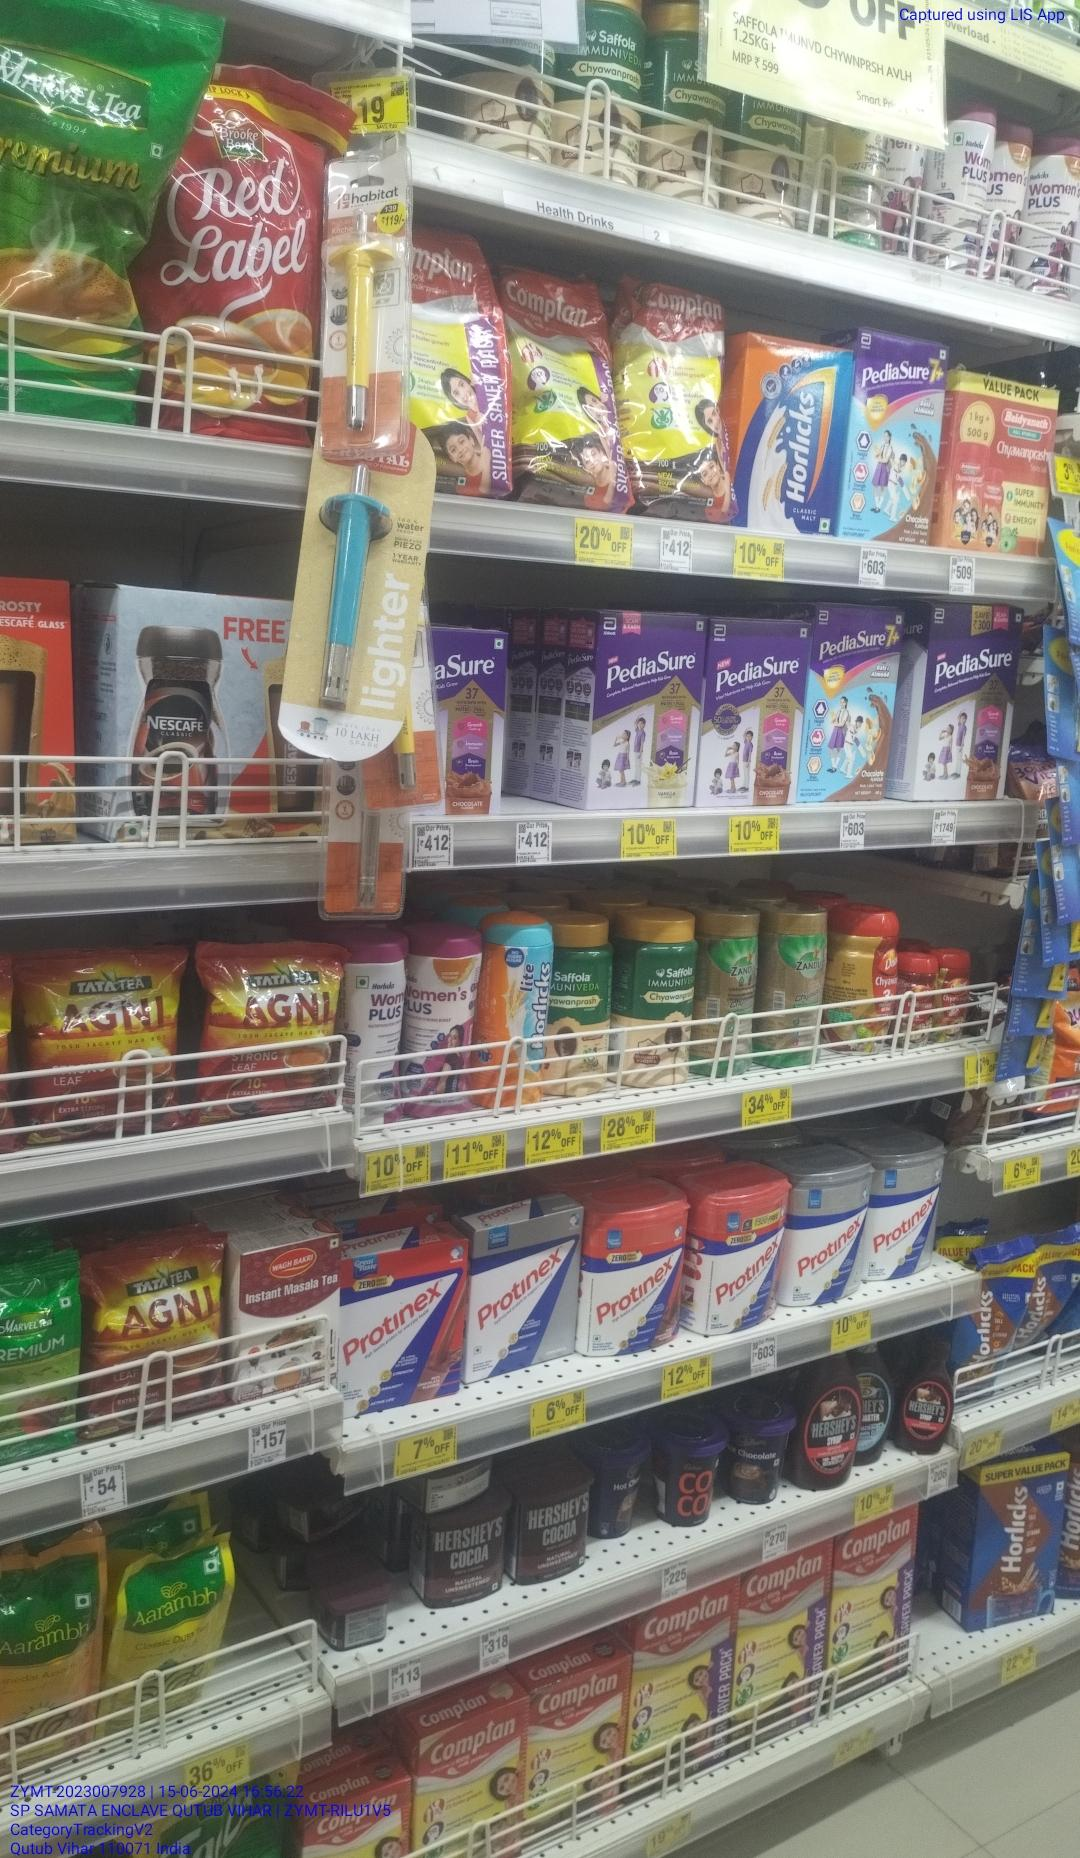COMPLAN_CHOCOLATE_1_KG_PACK: (634, 1607, 729, 1791), (741, 1558, 828, 1744), (834, 1515, 917, 1702)
COMPLAN_CHOCOLATE_500_GMS_PACK: (531, 1679, 624, 1827)
COMPLAN_KESAR_BADAM_500_GMS_PACK: (419, 1727, 530, 1858)
COMPLAN_RC_POUCH_700_GMS_12: (406, 220, 516, 494), (629, 282, 735, 521), (519, 267, 620, 508)
HORLICK_CHOCOLATE_1_KG_PACK: (977, 1463, 1067, 1629)
HORLICK_CHOCOLATE_750_G_POUCH: (964, 1250, 1022, 1402)
HORLICK_CLASSIC_MALT_500_G_PACK: (742, 330, 847, 535)
PEDIASURE_7_PLUS_CHOCOLATE_400_G_PACK: (814, 606, 899, 804)
PEDIASURE_CHOCOLATE_500_G_PACK: (705, 618, 800, 806)
PEDIASURE_VANILLA_500_G_PACK: (594, 608, 699, 809)
PROTINEX_CHOCOLATE_400_G_JAR: (590, 1201, 685, 1354), (701, 1184, 788, 1331)
PROTINEX_ORIGINAL_400_G_JAR: (792, 1171, 869, 1308), (870, 1150, 942, 1283)
